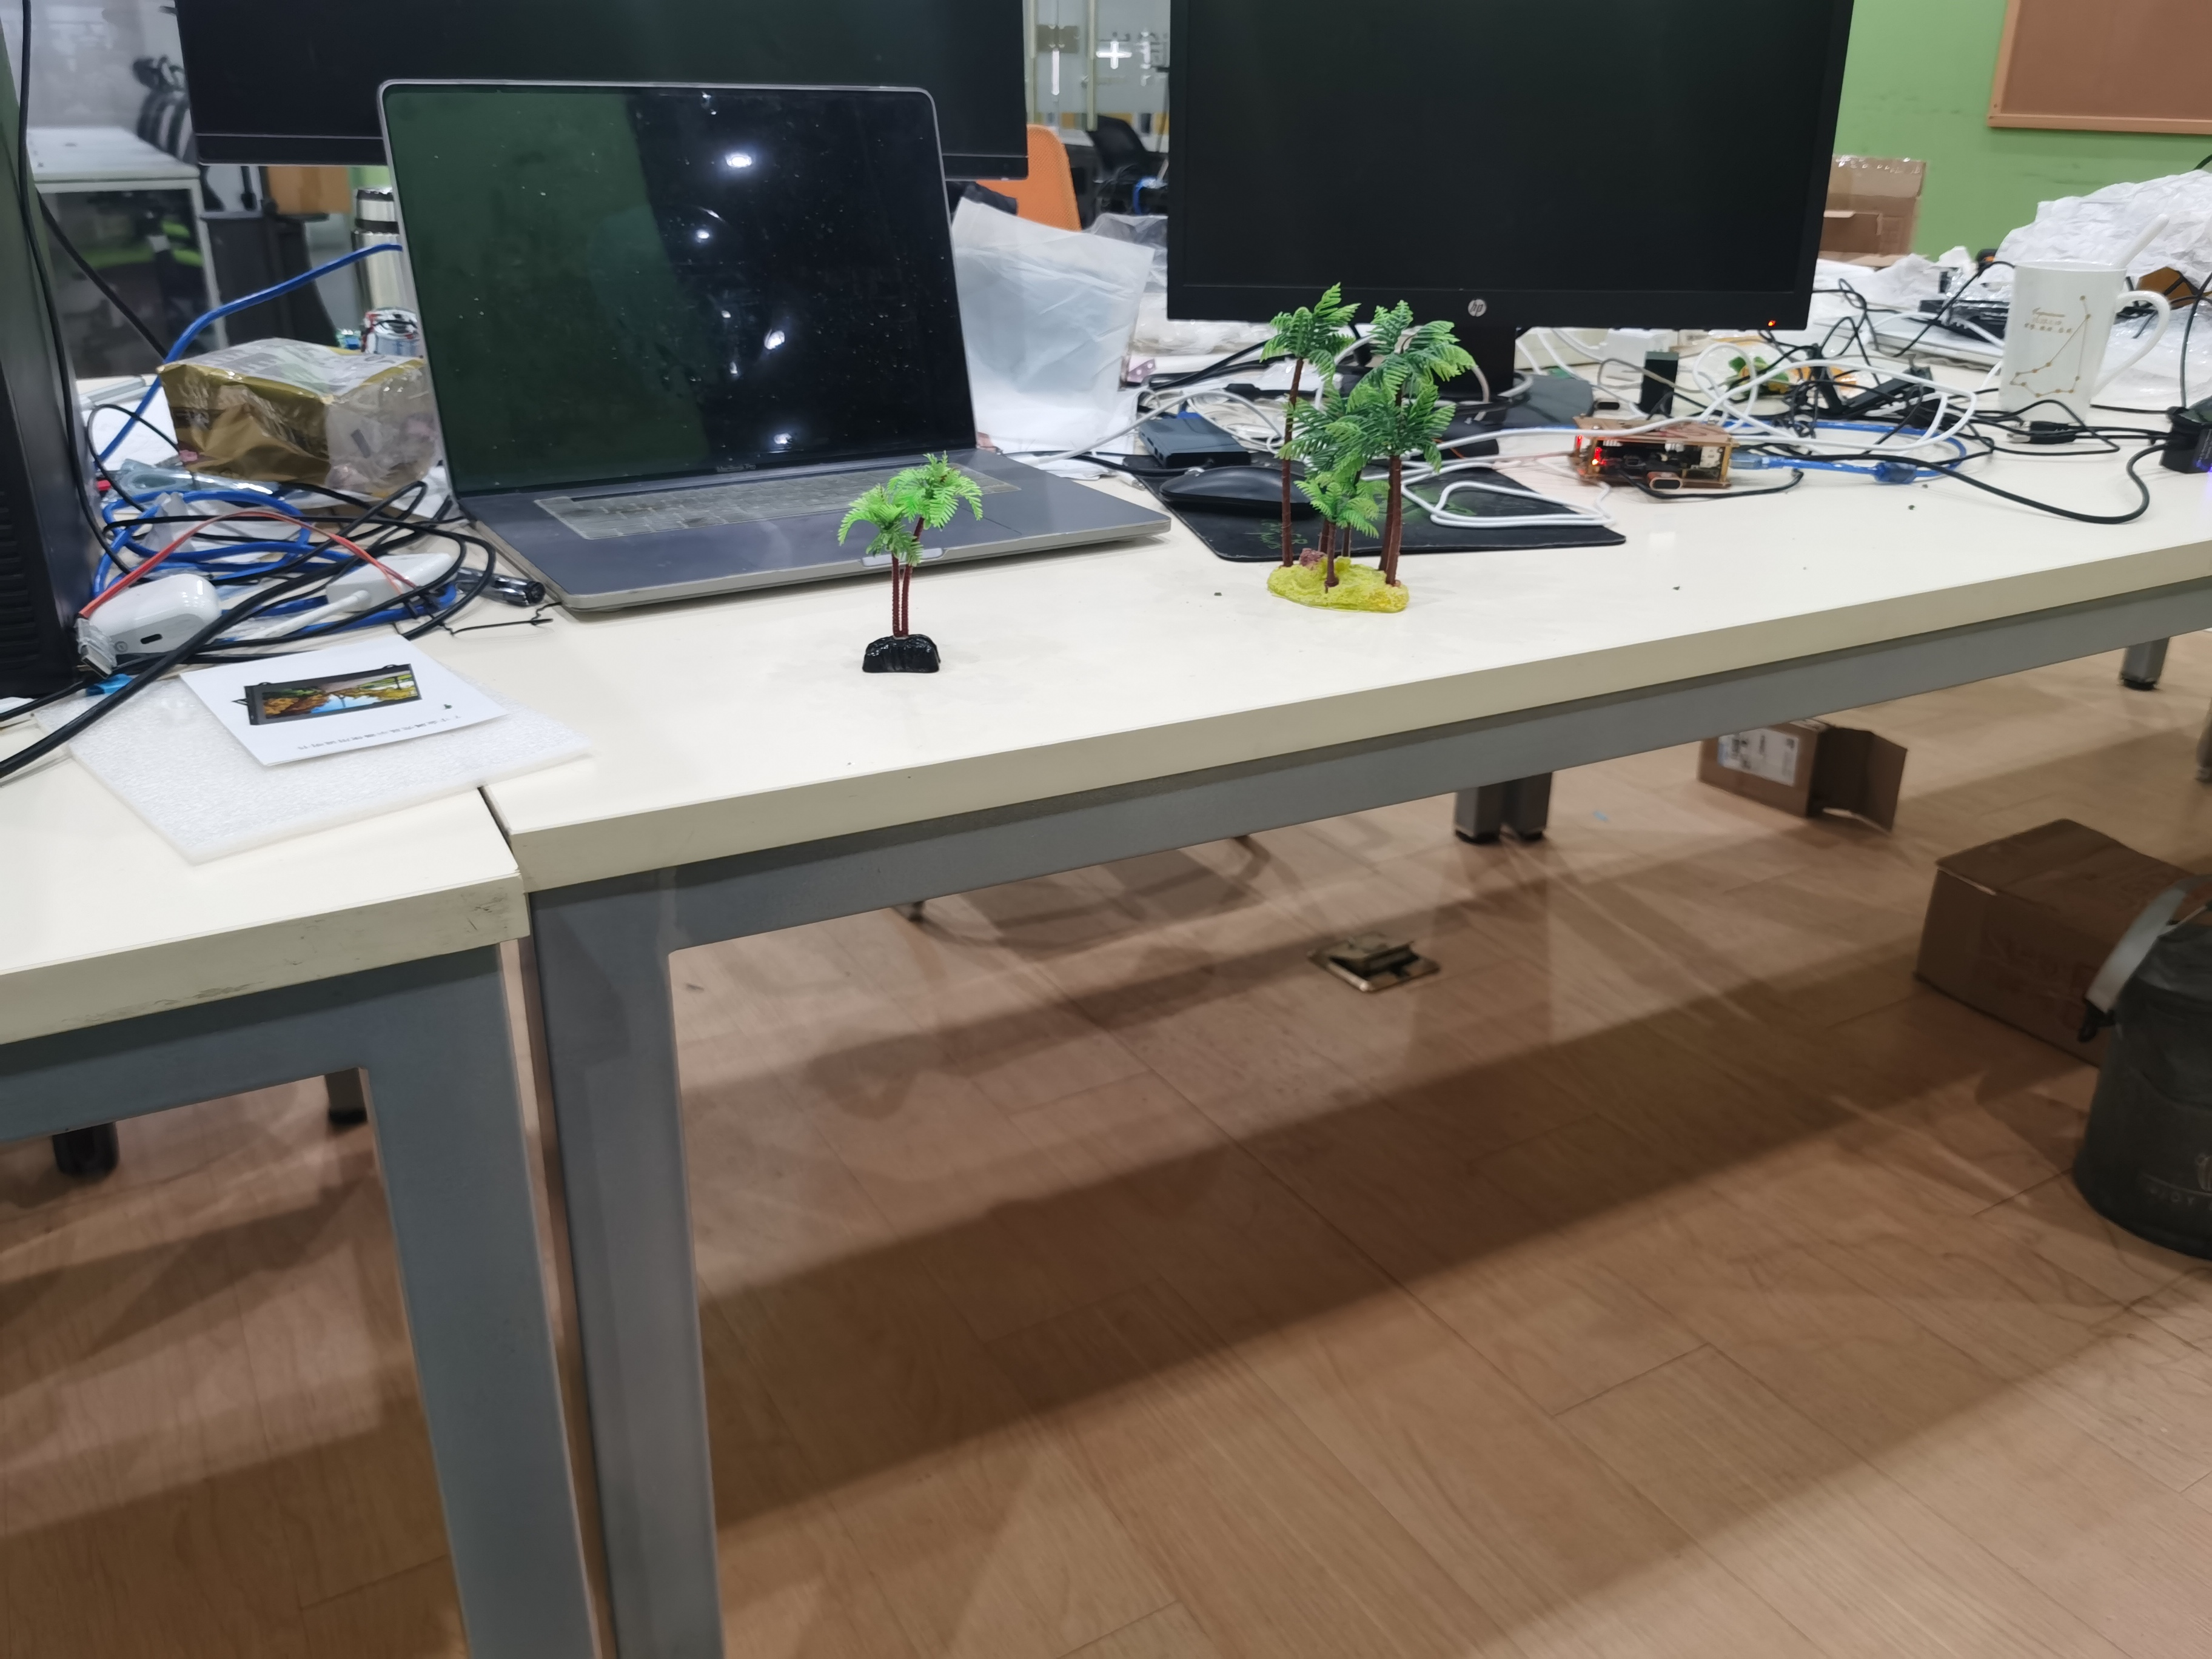corn: (1266, 261, 1494, 620), (827, 446, 1000, 674)
